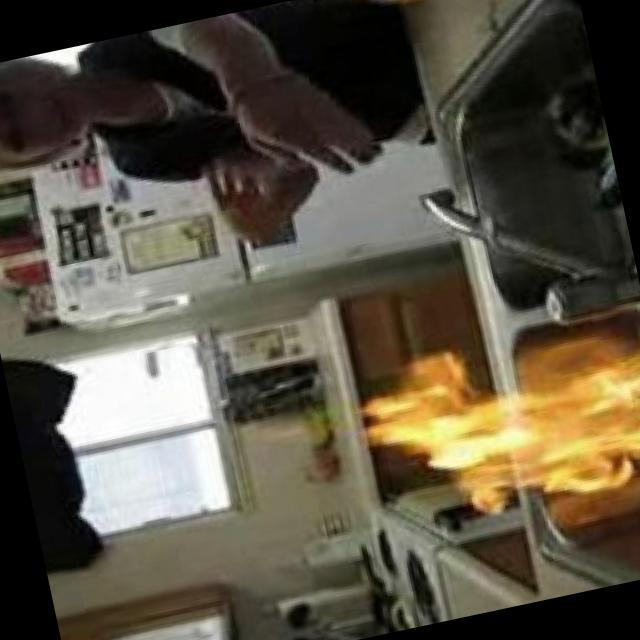Fire: (352, 312, 640, 542)
